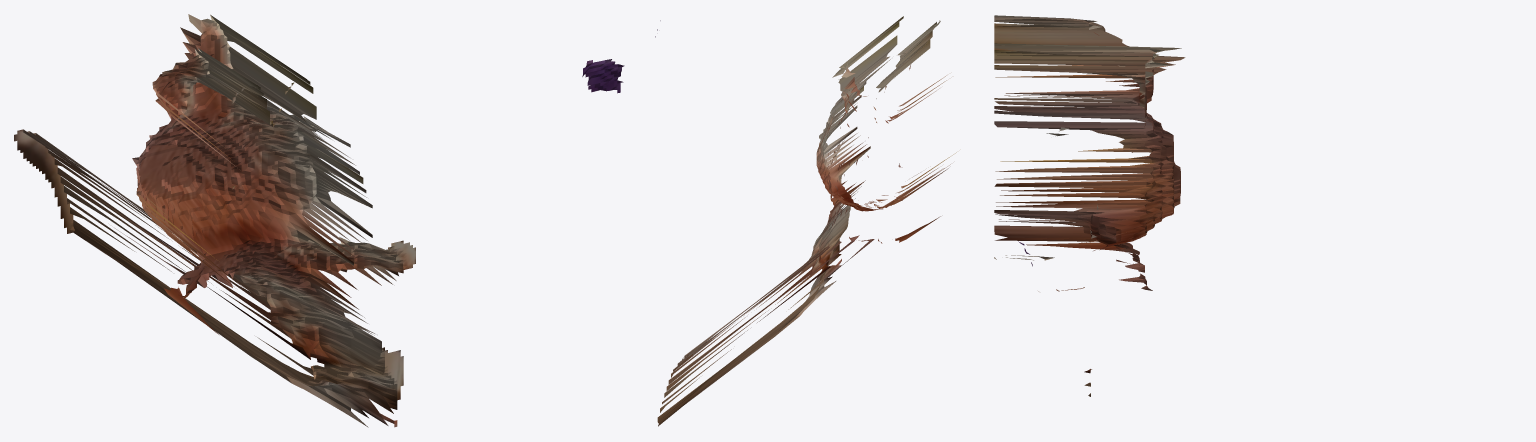
File: frame_00344.glb
3 views of the same model, side by side, from view 1: azimuth 30°, elevation 25°; view 2: azimuth 150°, elevation 25°; view 3: azimuth 270°, elevation 25° (orthographic). The views are drawn at different scales.
Parts seen in each view (by area): view 1: geometry_0; view 2: geometry_0; view 3: geometry_0.
Boxes of the visible parts, x1,y1,x2,y2 form: geometry_0: (14,14,624,427); geometry_0: (655,16,956,426); geometry_0: (994,15,1185,396).
Bounding box in the file's own units: 0.1337 × 0.1174 × 0.16.
Materials: 1 (1 with a texture image).
